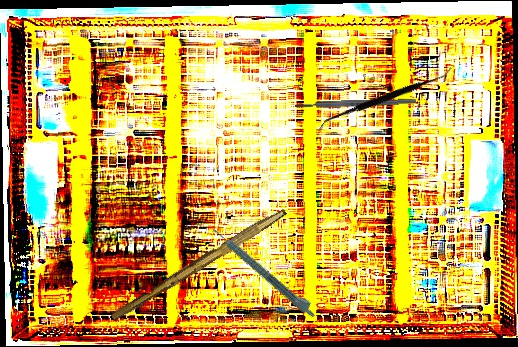Handpiece: (210, 222, 321, 320)
Scalpel Handle: (109, 202, 288, 326), (294, 97, 417, 110)
Spatula Surgical: (318, 25, 453, 174)
